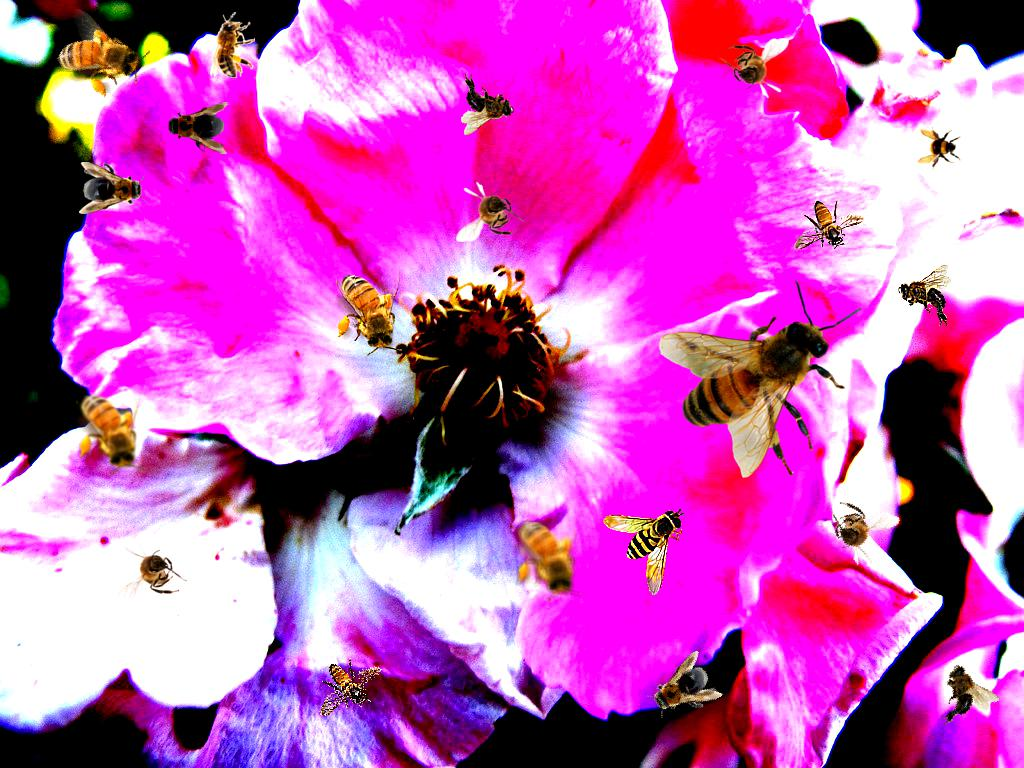Bee: (658, 279, 862, 478), (40, 2, 156, 111), (812, 489, 901, 575), (603, 508, 685, 596), (639, 649, 725, 731), (333, 261, 405, 358), (514, 508, 582, 601), (76, 382, 144, 475), (922, 654, 1001, 730), (308, 651, 390, 718), (456, 181, 526, 242), (117, 540, 187, 601), (719, 38, 789, 99), (794, 200, 865, 250), (79, 162, 147, 214), (162, 102, 230, 154), (461, 73, 514, 135), (898, 265, 951, 327), (210, 12, 255, 78), (917, 127, 961, 171)
